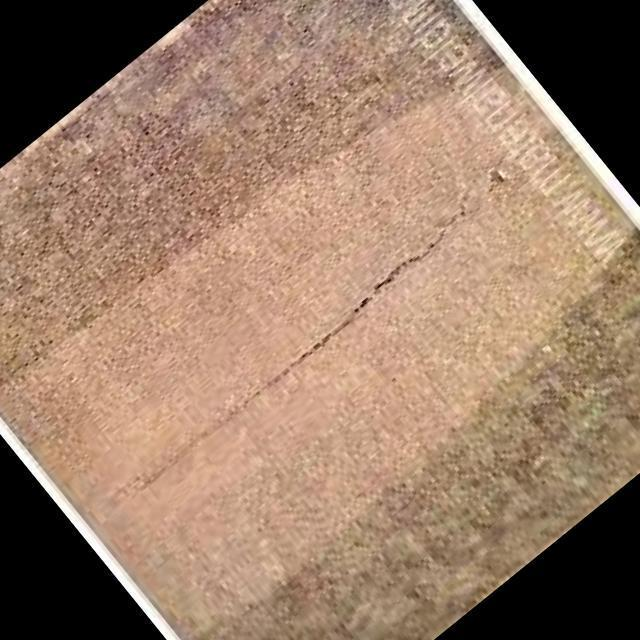defect: (126, 177, 474, 495)
